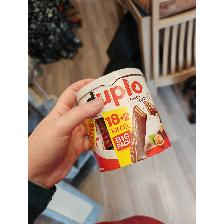Schokolade: (74, 66, 172, 174)
